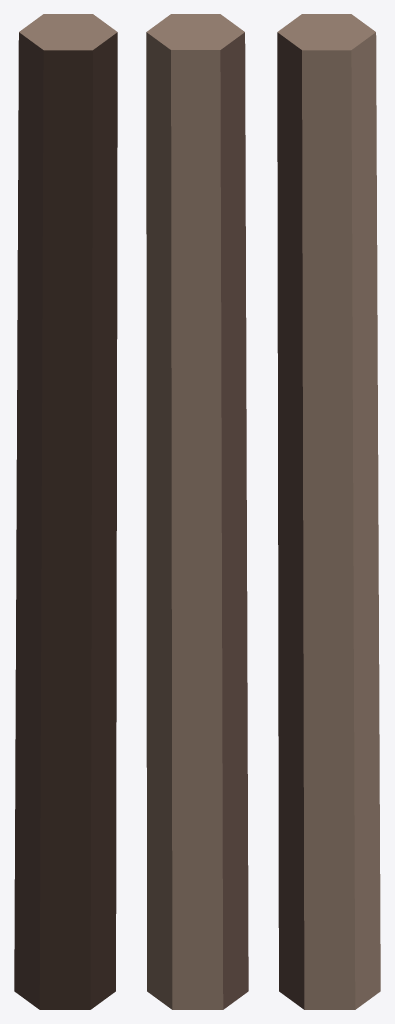
The model's file is post_713x00.gltf.
3 views of the same model, side by side, from view 1: azimuth 90°, elevation 25°; view 2: azimuth 210°, elevation 25°; view 3: azimuth 270°, elevation 25° (orthographic).
Visible parts, largest first — view 1: Cylinder; view 2: Cylinder; view 3: Cylinder.
Part boxes in pixels (bbox=[...]): Cylinder: bbox=[14, 14, 117, 1009]; Cylinder: bbox=[146, 14, 248, 1009]; Cylinder: bbox=[277, 14, 380, 1009].
Size of the model in its own units: 0.4165 by 5 by 0.4888.
1 material, 1 textured.
